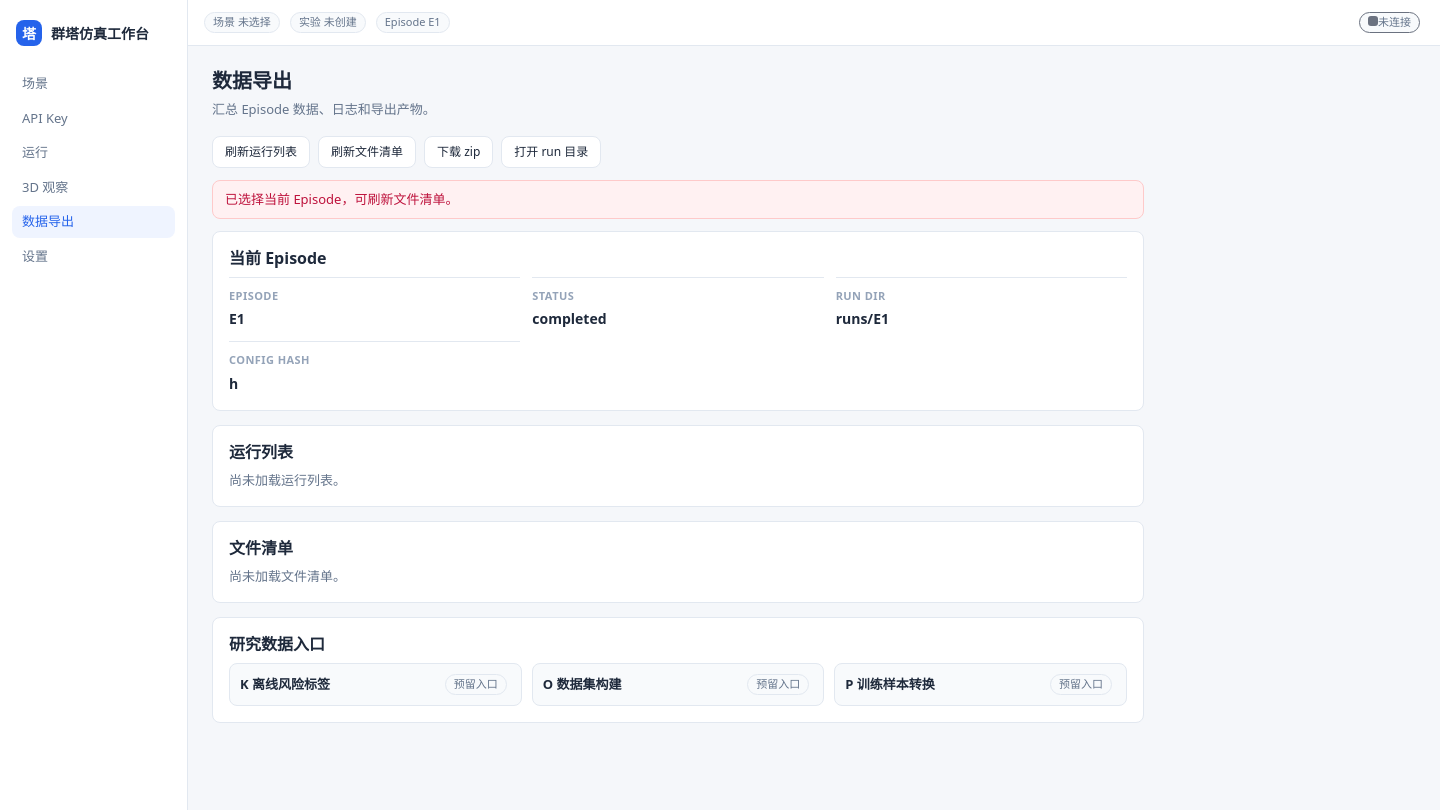
workbench data export and settings pages › refreshes the current episode file list
Click the button "刷新文件清单" at (367,152), box [318, 136, 416, 168]
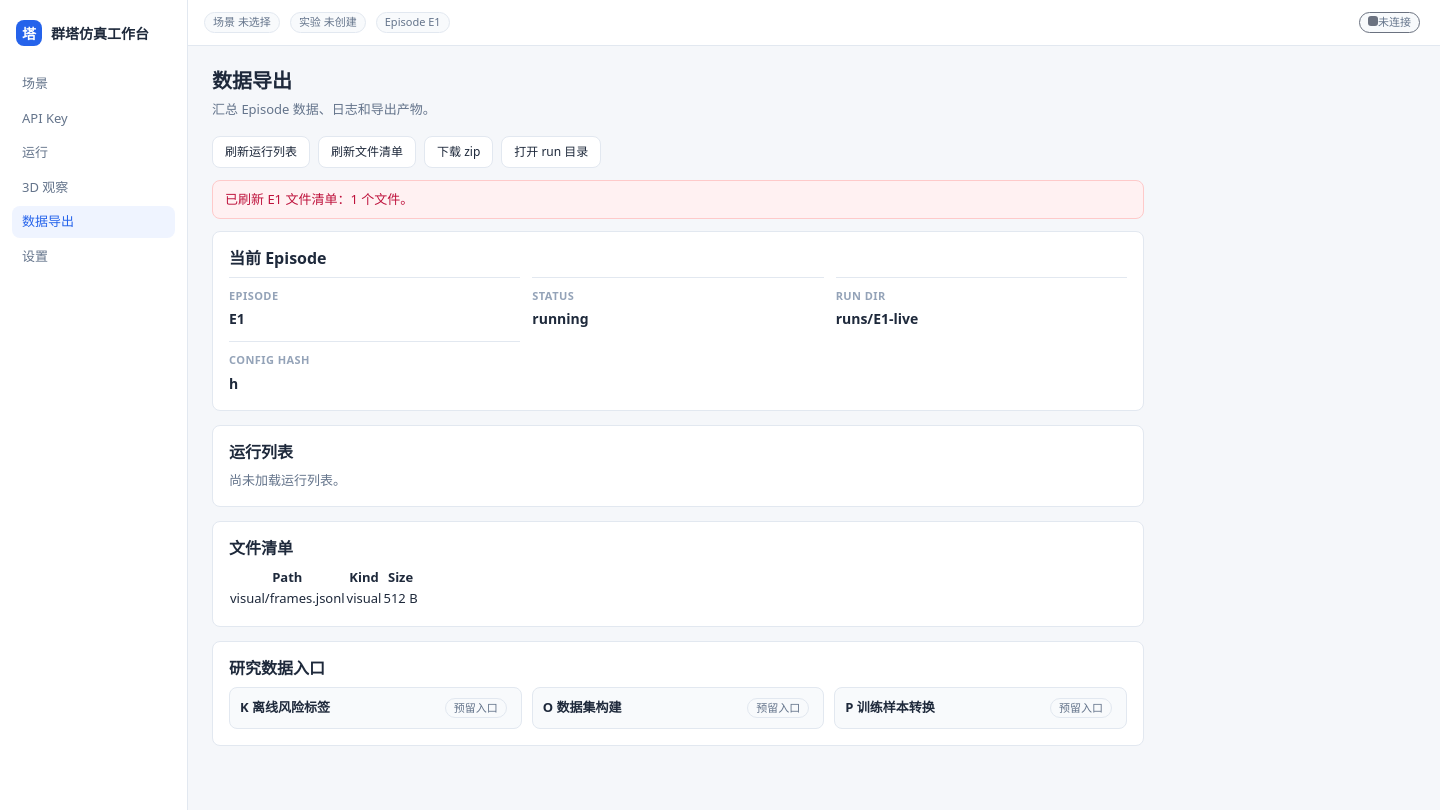
Result: the text "visual/frames.jsonl" is shown at [229, 588, 346, 610]
